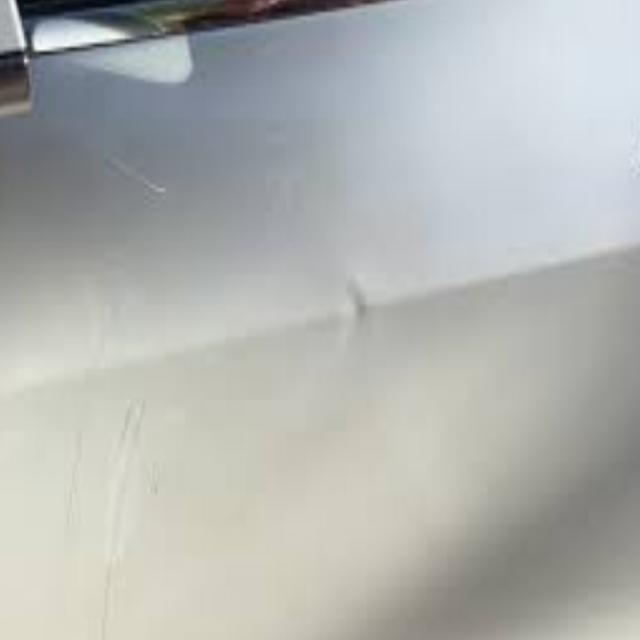dents: (331, 250, 392, 380)
